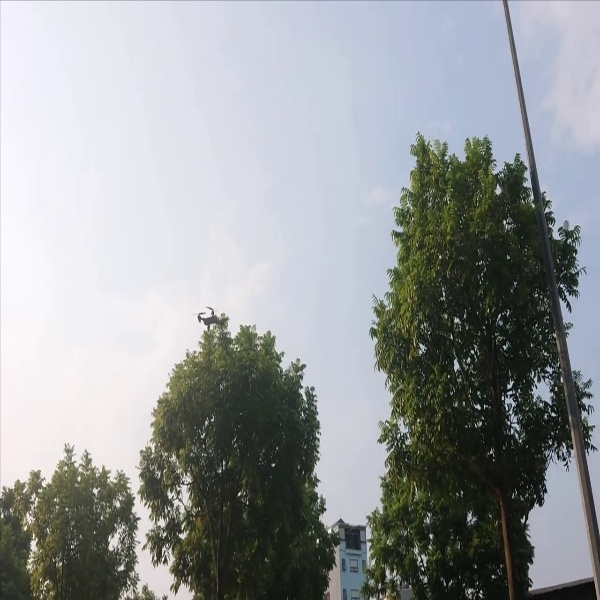drone: (192, 301, 228, 334)
